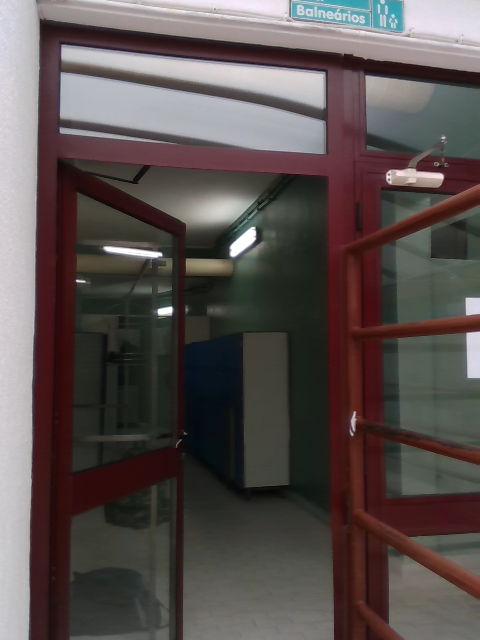open: (28, 131, 361, 639)
